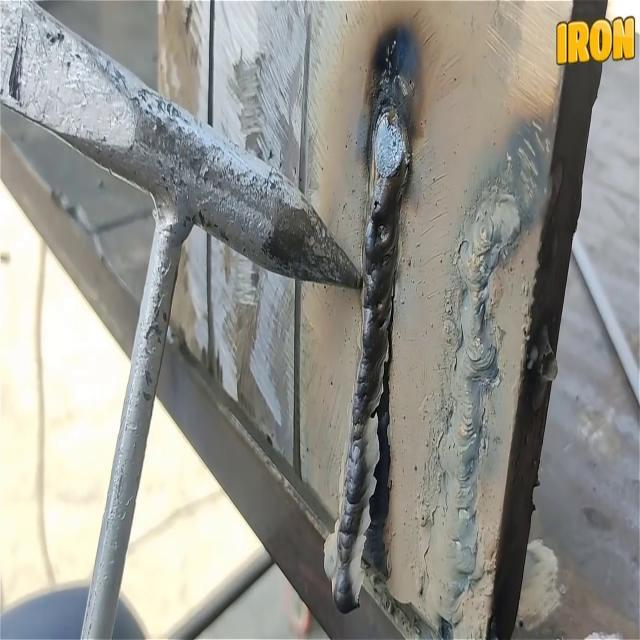Bad Weld: (416, 188, 522, 636), (324, 37, 400, 611)
Defect: (354, 271, 388, 614)
